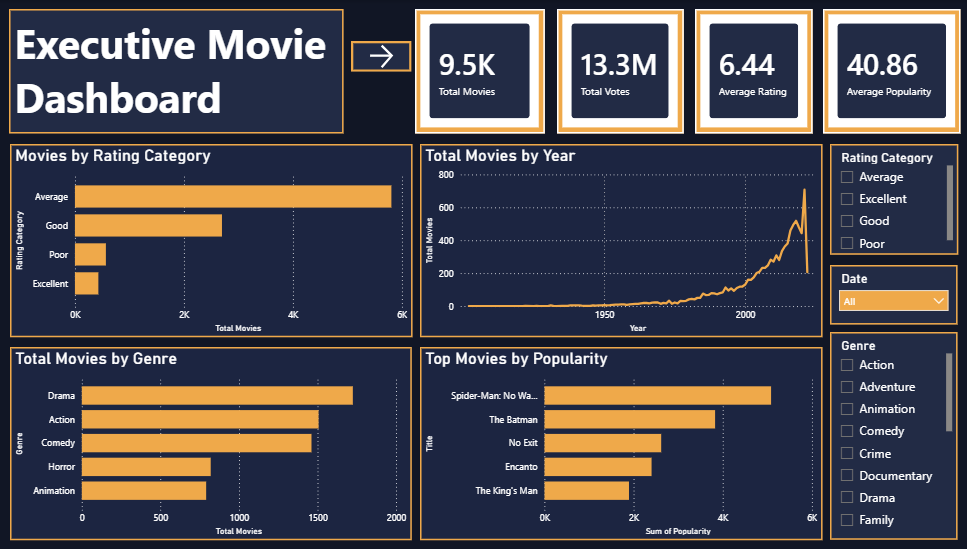

What the dashboard file says about the page in this screenshot:
{"tool":"powerbi","page":{"name":"Executive Dashboard","canvas":[1280,720],"ordinal":0},"visuals":[{"type":"cardVisual","fields":{"Data":["Genre.Total Movies"]},"box":[554.4,11.5,169.9,162.7],"z":0},{"type":"cardVisual","fields":{"Data":["Genre.Total Votes"]},"box":[740.2,11.5,165.6,162.7],"z":1000},{"type":"cardVisual","fields":{"Data":["Genre.Average Rating"]},"box":[920.2,11.5,154.1,162.7],"z":2000},{"type":"cardVisual","fields":{"Data":["Genre.Average Popularity"]},"box":[1087.2,11.5,180,162.7],"z":3000},{"type":"textbox","box":[21.6,11.5,437.8,162.7],"z":4000},{"type":"barChart","title":"Movies by Rating Category","fields":{"Y":["Genre.Total Movies"],"Category":["mymoviedb.Rating Category"]},"box":[23,188.6,527,253.4],"z":5000},{"type":"lineChart","fields":{"Category":["Date Table.Date.Variation.Date Hierarchy.Year"],"Y":["Genre.Total Movies"]},"box":[560.2,188.6,527,253.4],"z":6000},{"type":"barChart","fields":{"Category":["Genre.Genre"],"Y":["Genre.Total Movies"]},"box":[23,453.6,525.6,253.4],"z":7000},{"type":"barChart","title":"Top Movies by Popularity","fields":{"Category":["mymoviedb.Title"],"Y":["Sum(mymoviedb.Popularity)"]},"box":[560.2,453.6,527,253.4],"z":8000},{"type":"slicer","fields":{"Values":["Rating Category.Rating Category"]},"box":[1097.3,188.6,168.5,145.4],"z":9000},{"type":"slicer","fields":{"Values":["Date Table.Date.Variation.Date Hierarchy.Year"]},"box":[1097.3,347,167,77.8],"z":10000},{"type":"slicer","fields":{"Values":["Genre.Genre"]},"box":[1097.3,434.9,167,272.2],"z":11000},{"type":"actionButton","box":[469.4,53.3,79.2,40.3],"z":12000}]}

Visuals, with their boxes in screenshot pixels (x1, y1, x2, y2), scaled from the page's 1280x720 canvas onto the 967x549 screenshot:
cardVisual - Genre.Total Movies: box=[419, 9, 547, 133]
cardVisual - Genre.Total Votes: box=[559, 9, 684, 133]
cardVisual - Genre.Average Rating: box=[695, 9, 812, 133]
cardVisual - Genre.Average Popularity: box=[821, 9, 957, 133]
textbox: box=[16, 9, 347, 133]
"Movies by Rating Category" barChart: box=[17, 144, 416, 337]
lineChart - Date Table.Date.Variation.Date Hierarchy.Year x Genre.Total Movies: box=[423, 144, 821, 337]
barChart - Genre.Genre x Genre.Total Movies: box=[17, 346, 414, 539]
"Top Movies by Popularity" barChart: box=[423, 346, 821, 539]
slicer - Rating Category.Rating Category: box=[829, 144, 956, 255]
slicer - Date Table.Date.Variation.Date Hierarchy.Year: box=[829, 265, 955, 324]
slicer - Genre.Genre: box=[829, 332, 955, 539]
actionButton: box=[355, 41, 414, 71]
